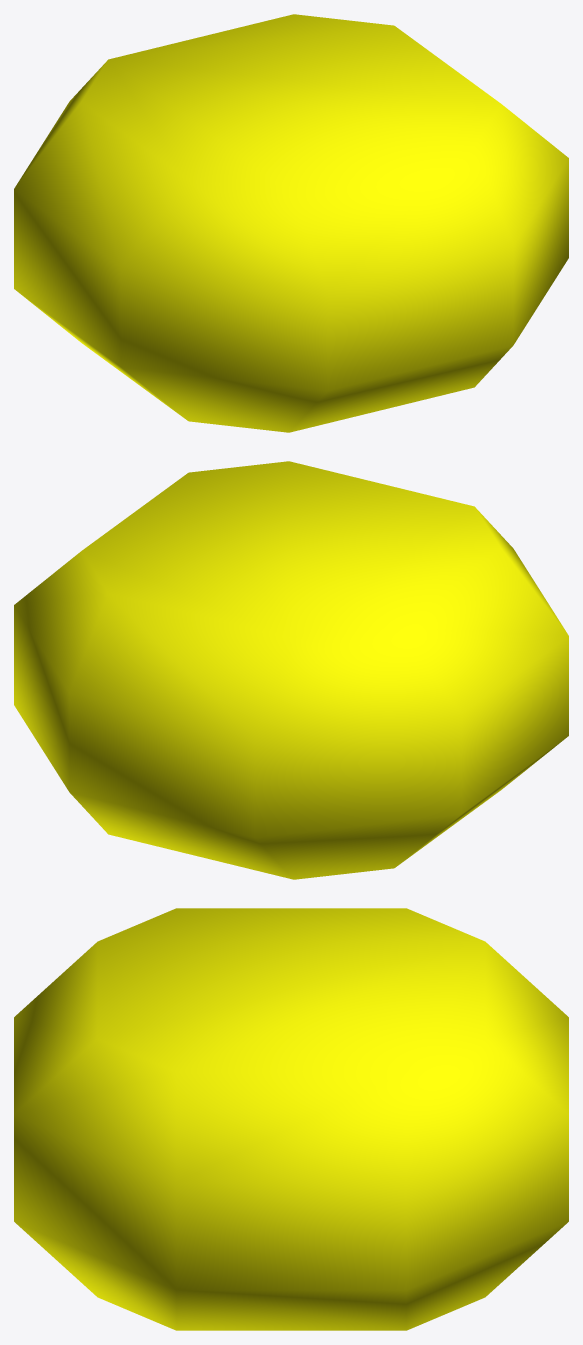
File: Link6.bbox.gltf
3 renders of one model, top to bottom at view 1: azimuth 30°, elevation 25°; view 2: azimuth 150°, elevation 25°; view 3: azimuth 270°, elevation 25°, orthographic. The views are drawn at different scales.
Visible parts, largest first — view 1: Link6.bbox; view 2: Link6.bbox; view 3: Link6.bbox.
Boxes of the visible parts, x1,y1,x2,y2 form: Link6.bbox: (14, 14, 568, 432); Link6.bbox: (14, 461, 568, 879); Link6.bbox: (14, 908, 568, 1330).
Size of the model in its own units: 0.07 by 0.036 by 0.07.
